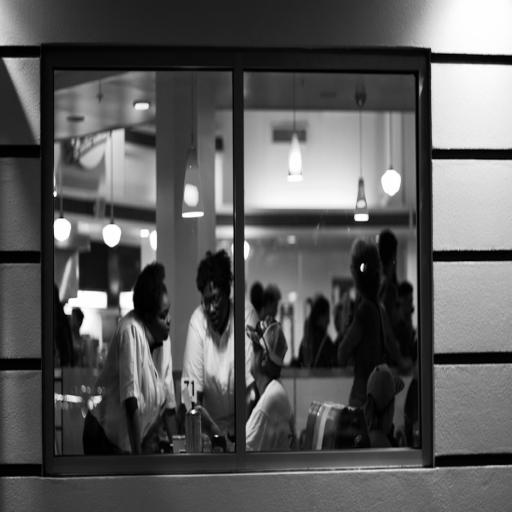face: (200, 282, 227, 331), (156, 289, 174, 345)
